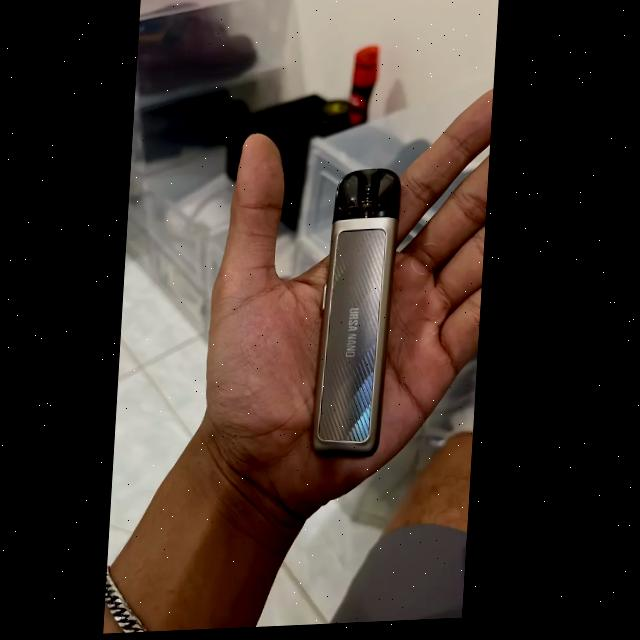vape: (320, 172, 403, 462)
